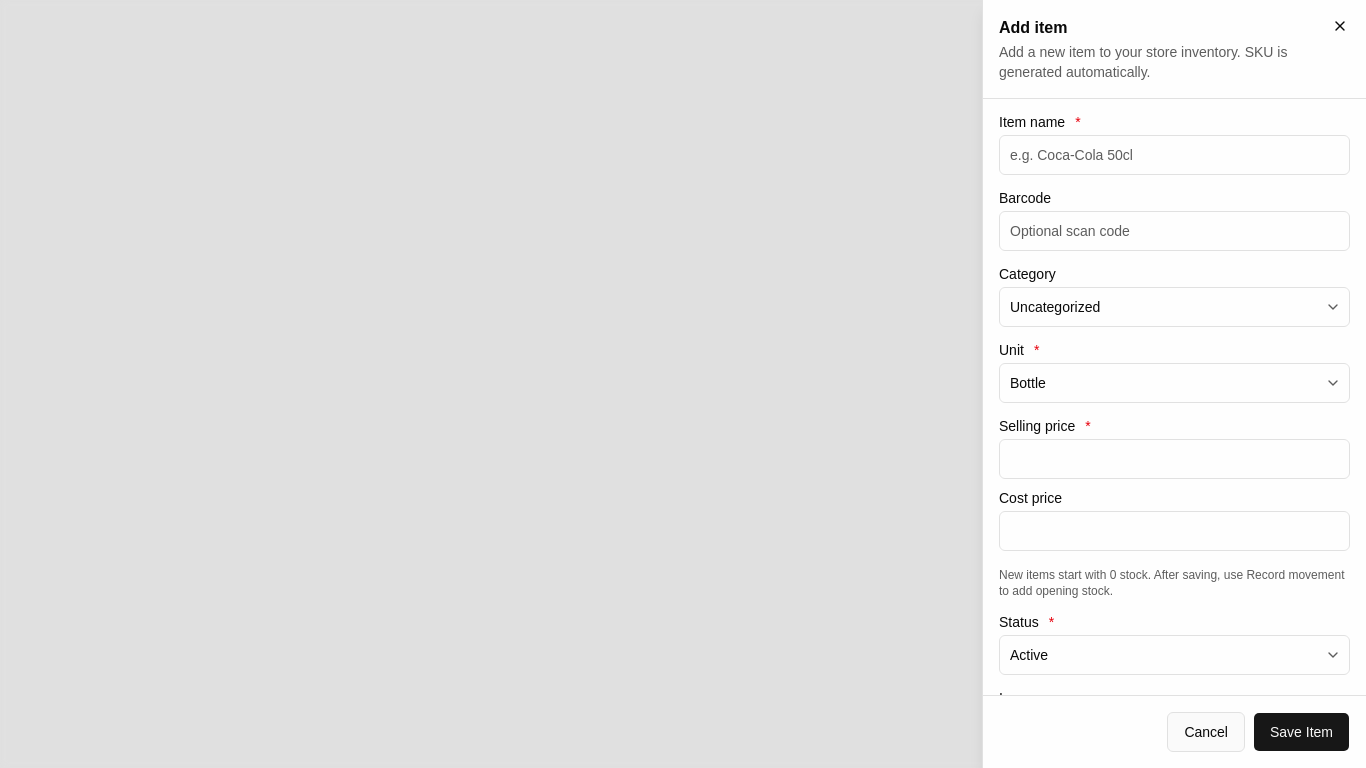
Scenario: ItemFormDrawer › shows required-field errors and does not create an empty item
expect the heading "Add item" is shown: met, box [999,19,1068,36]
What coordinates should you click on to do the following:
click the button "Save Item"
I would click on:
 (1302, 732)
Its box is [1253,712,1350,752].
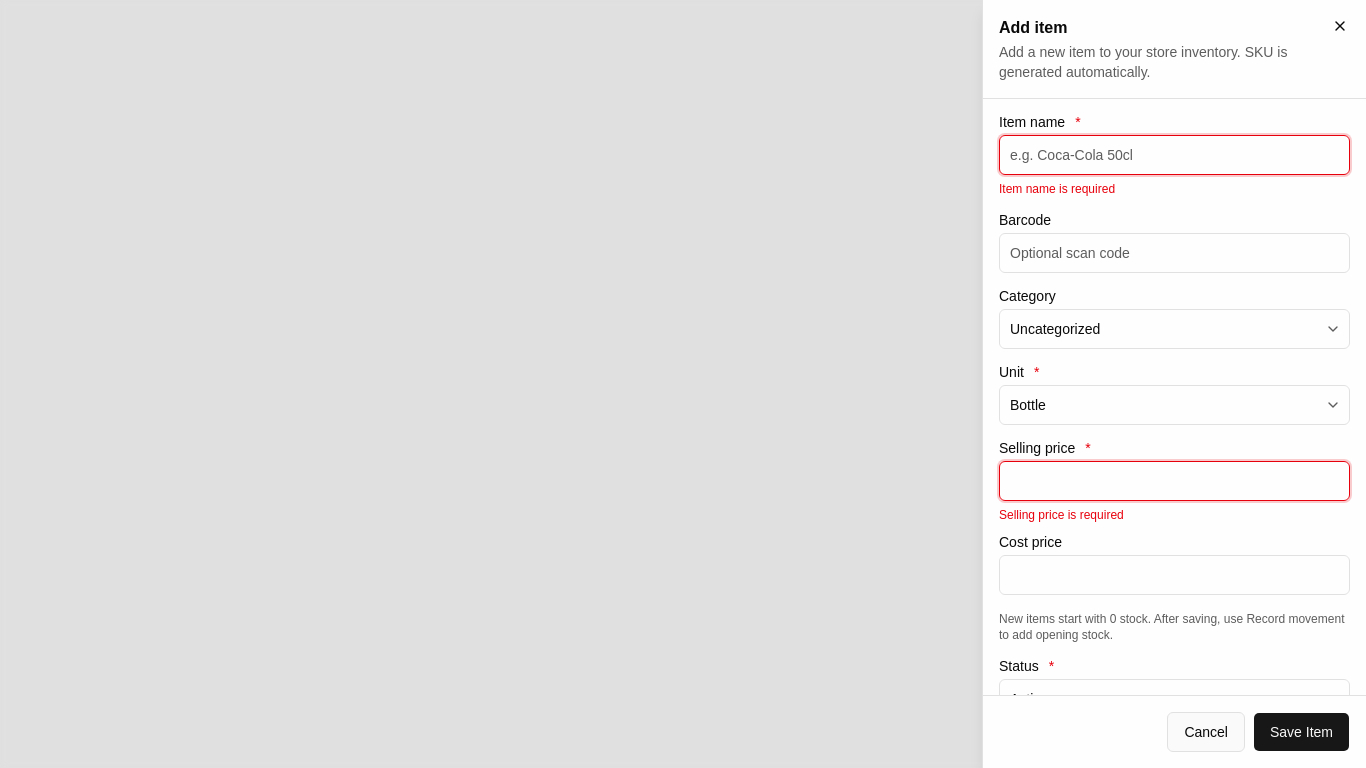
expect the text "Item name is required" is shown: met, box [999,182,1115,196]
expect the text "Selling price is required" is shown: met, box [999,508,1124,522]
